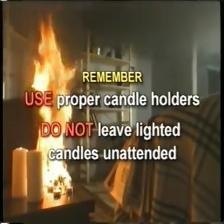fire: (26, 15, 75, 189)
